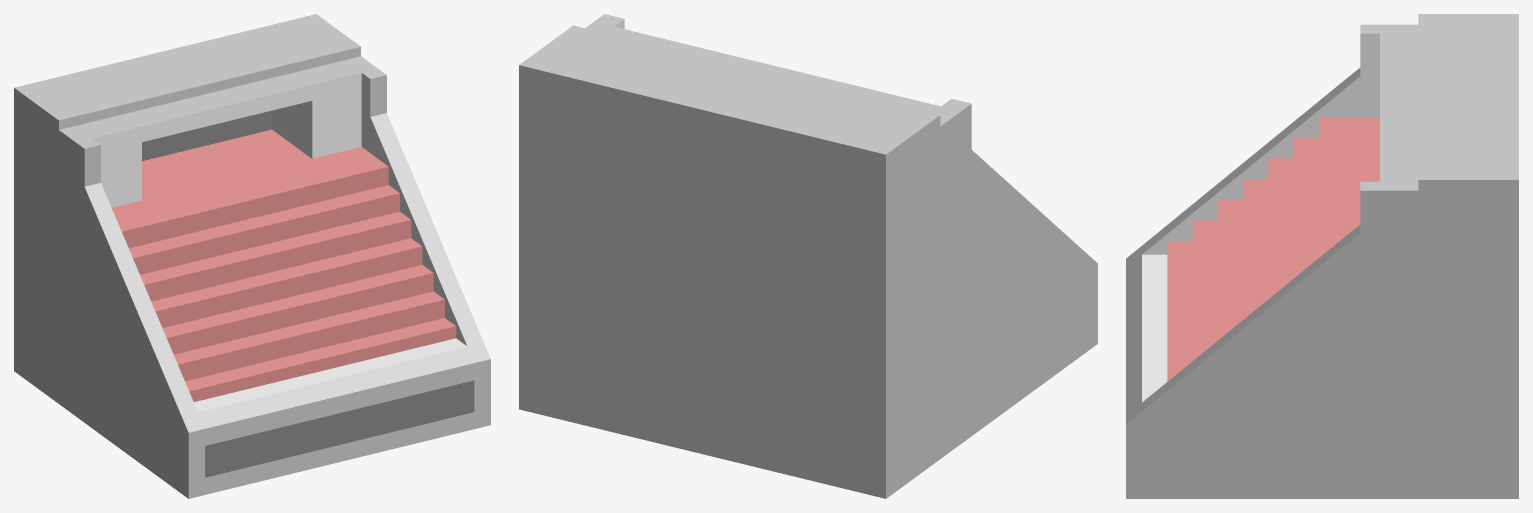
File: grandStand.glb
3 renders of one model, left to right at view 1: azimuth 30°, elevation 25°; view 2: azimuth 150°, elevation 25°; view 3: azimuth 270°, elevation 25°, orthographic. The views are drawn at different scales.
Parts seen in each view (by area): view 1: grandStand(Clone); view 2: grandStand(Clone); view 3: grandStand(Clone).
Boxes of the visible parts, x1=… form: grandStand(Clone): x1=14, y1=14, x2=490, y2=498; grandStand(Clone): x1=519, y1=14, x2=1097, y2=498; grandStand(Clone): x1=1126, y1=14, x2=1518, y2=498.
Bounding box in the file's own units: 1 × 0.8962 × 1.
